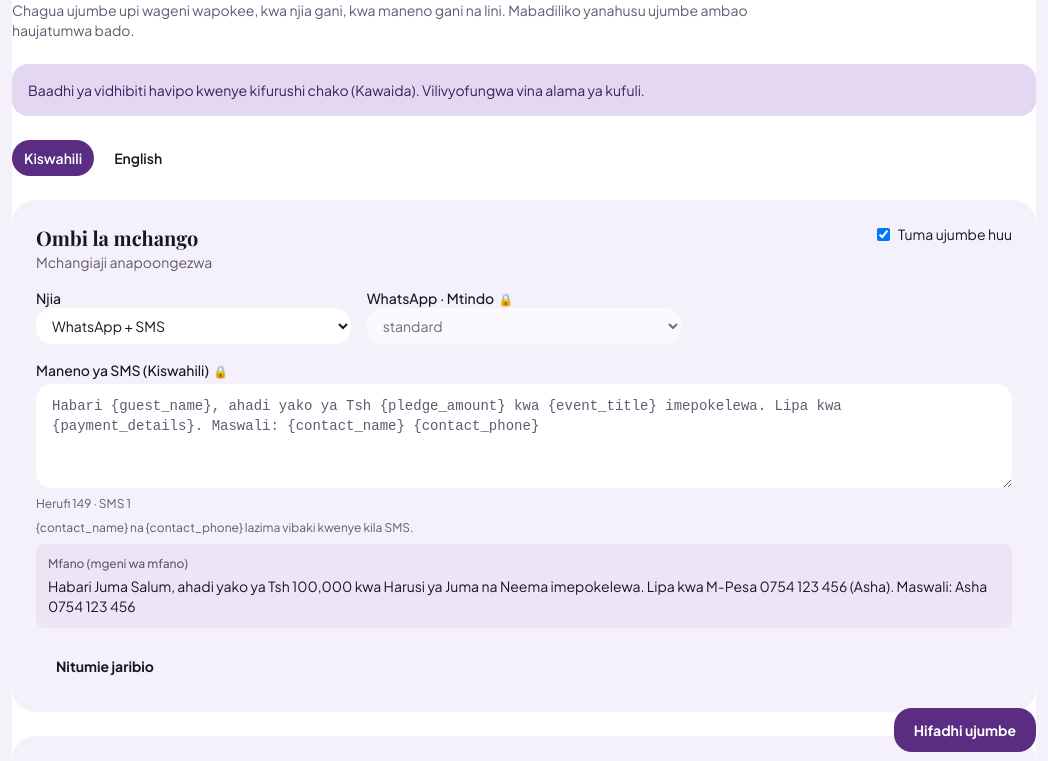
Test: MessageSettings › renders in Swahili with the Swahili lock note and English SMS tab
Click the tab "English" at (138, 158), box [102,140,174,176]
(page scrolled)
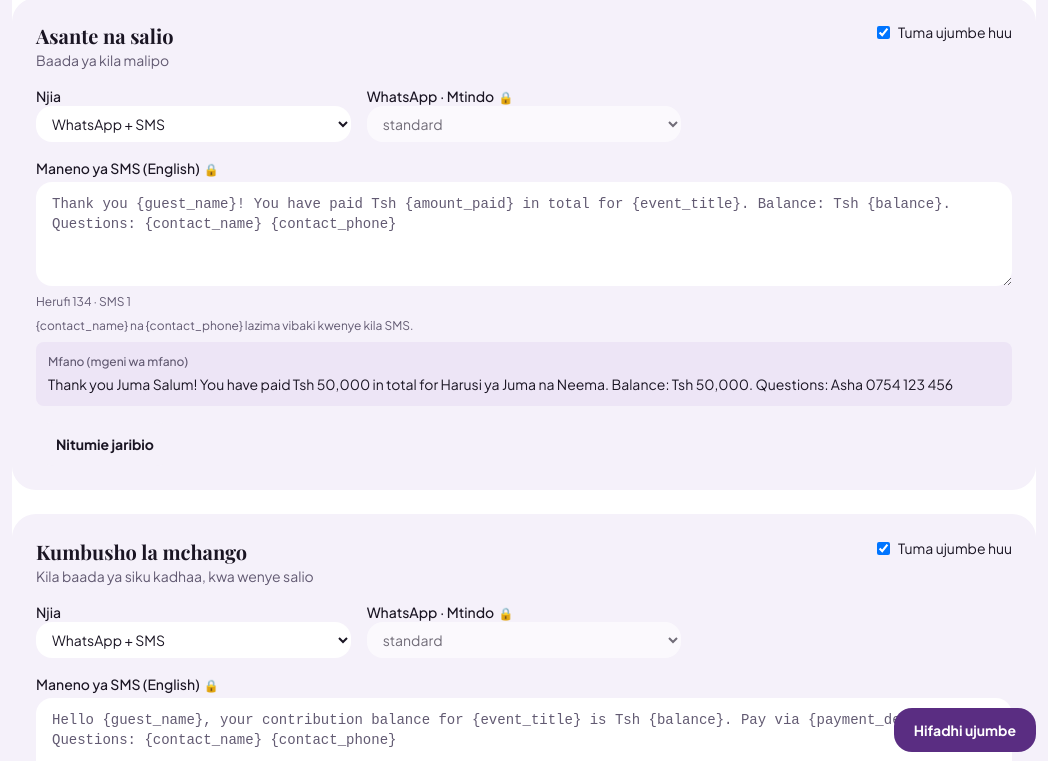
Expected: the text with test id "thank_you-en-preview" shows "Thank", [48,375,953,393]
